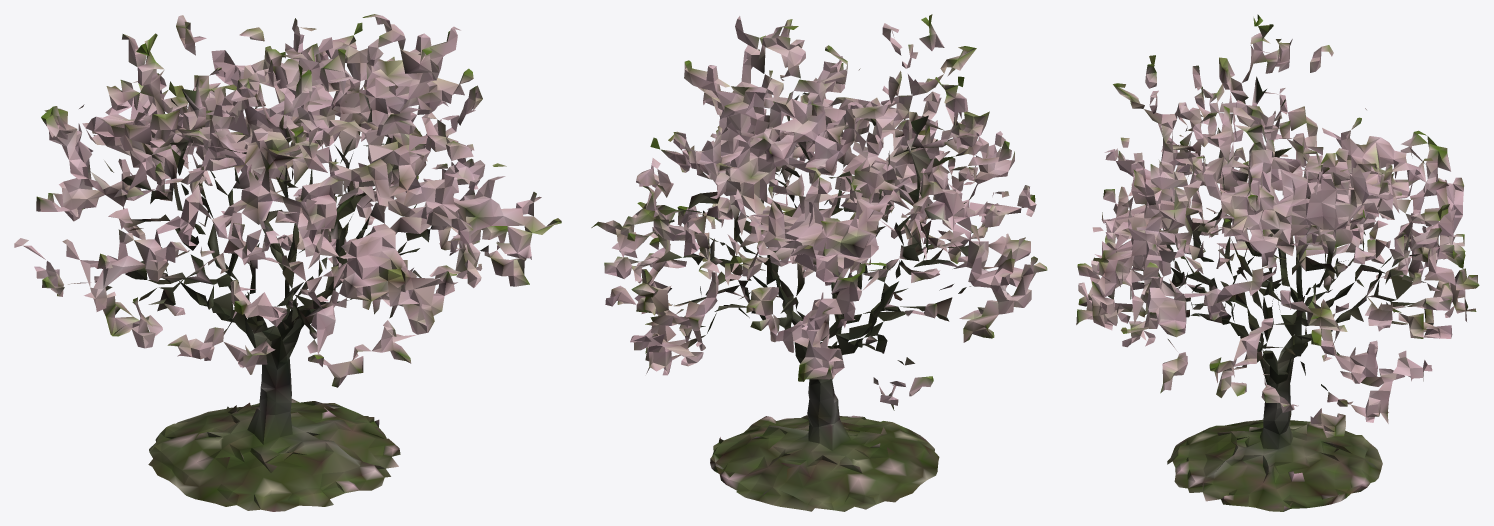
Rendered from cherry-bloom-s.glb.
3 renders of one model, left to right at view 1: azimuth 30°, elevation 25°; view 2: azimuth 150°, elevation 25°; view 3: azimuth 270°, elevation 25°, orthographic. The views are drawn at different scales.
Size of the model in its own units: 1.79 by 1.87 by 1.74.
